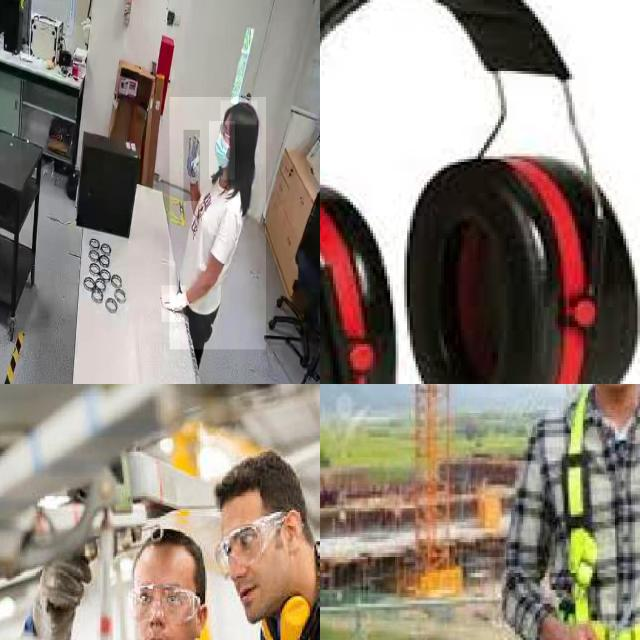Ear-protection: (398, 148, 640, 384), (241, 599, 320, 640)
Harness: (537, 384, 640, 640)
face_mask: (209, 121, 235, 179)
glasses: (214, 508, 285, 579), (119, 578, 203, 625)
hand_glove: (184, 130, 200, 201), (162, 285, 186, 323)
head_nohelmet: (211, 447, 319, 632), (126, 519, 215, 640), (220, 100, 258, 126)
person: (17, 516, 240, 640), (170, 97, 266, 350), (197, 448, 320, 640)
